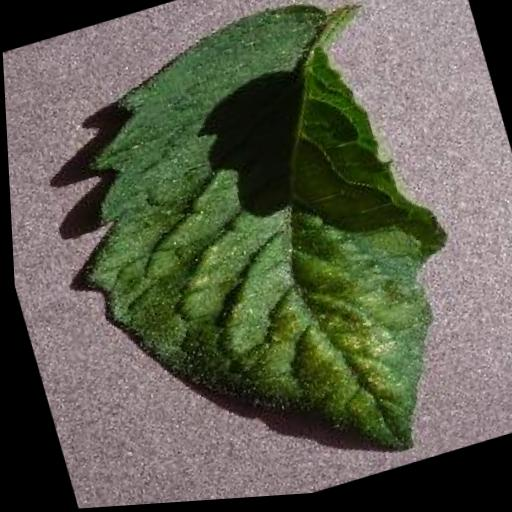Spider Mites: (27, 0, 498, 511)
